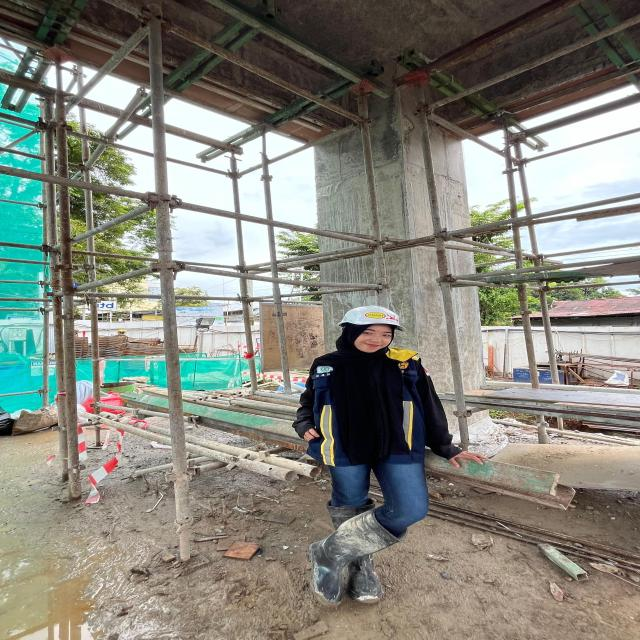safetyhelmet: (303, 294, 409, 384)
